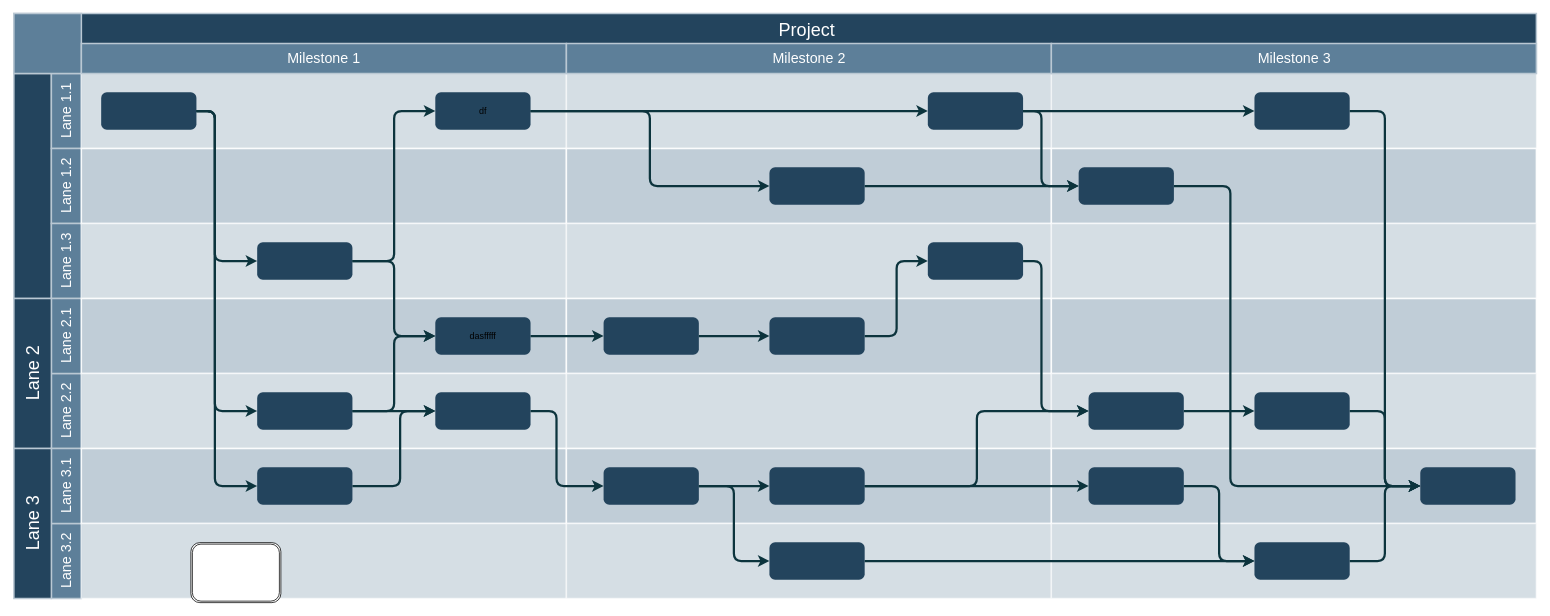
This 1550x616 diagram has some shape labels left out. The shapes that lost their labels are listed below. From the top down, each one's centre as x and y in pixels, then its label:
point (47, 43): v 1.0
point (32, 185): Lane 1
point (235, 572): test
